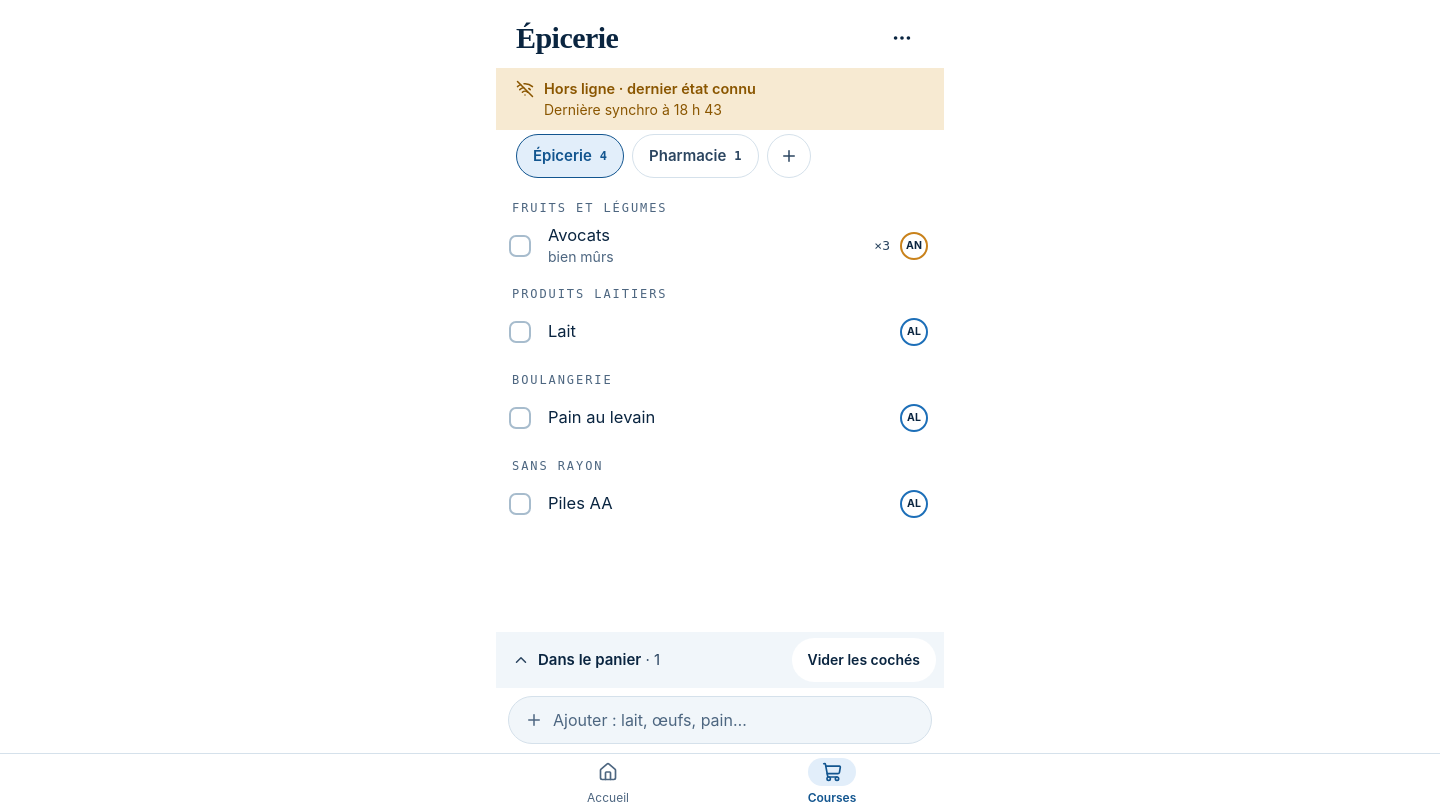
hors ligne › refuse proprement une action qui ne peut pas attendre (vider les cochés)
Expected: the heading "Épicerie" is shown, [516,21,618,54]
What coordinates should you click on to do the following:
click the button "Vider les cochés"
I would click on:
 (864, 660)
Its box is [792,638,936,682].
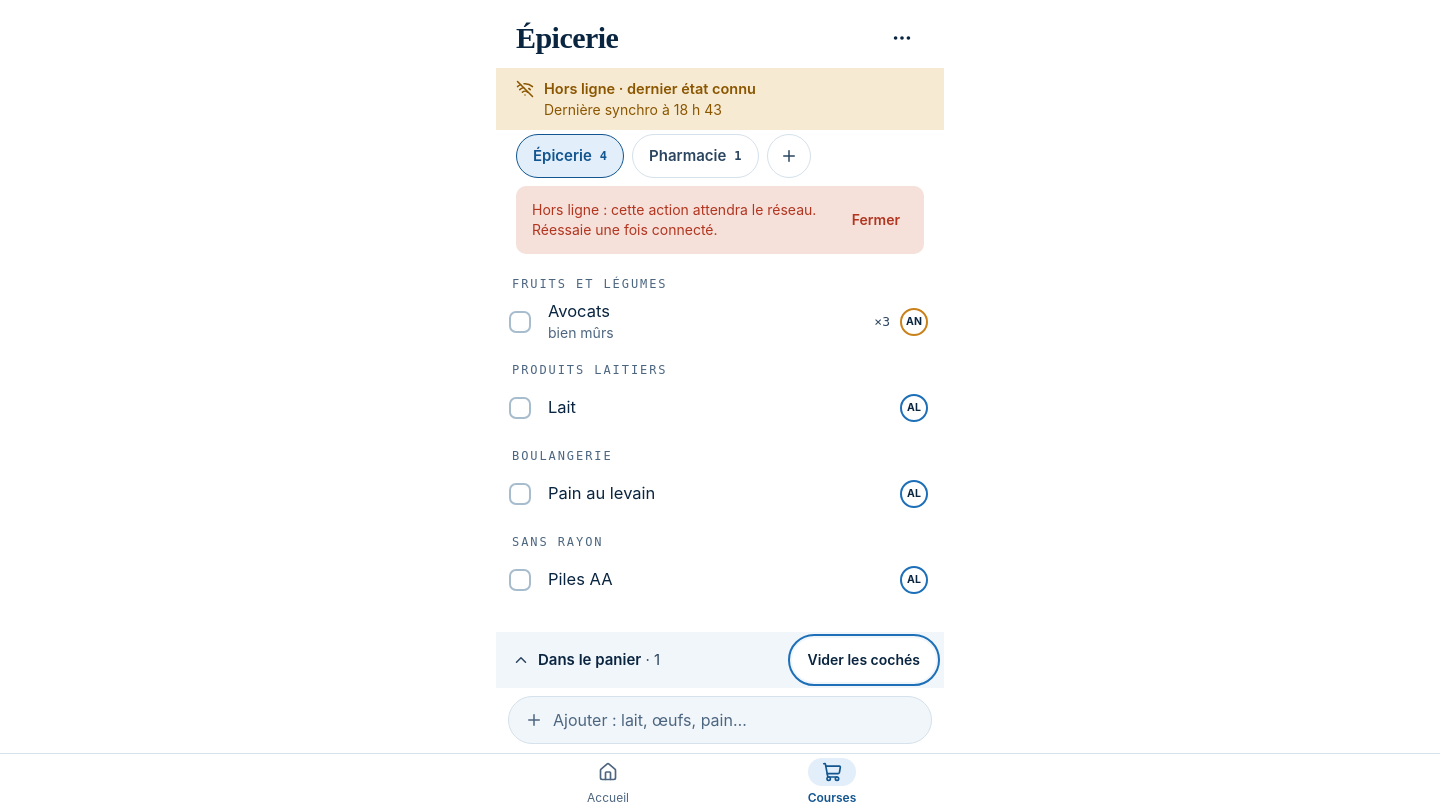
Expected: the button "Dans le panier · 1" is shown, [504,636,784,684]
Expected: the 2nd message shows "Hors ligne : cette action attendra le réseau.", [532,201,816,238]
